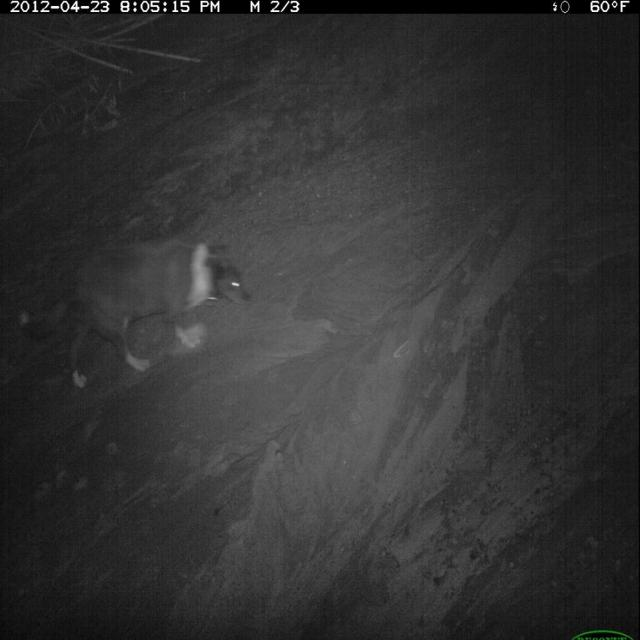dog: (11, 227, 257, 394)
